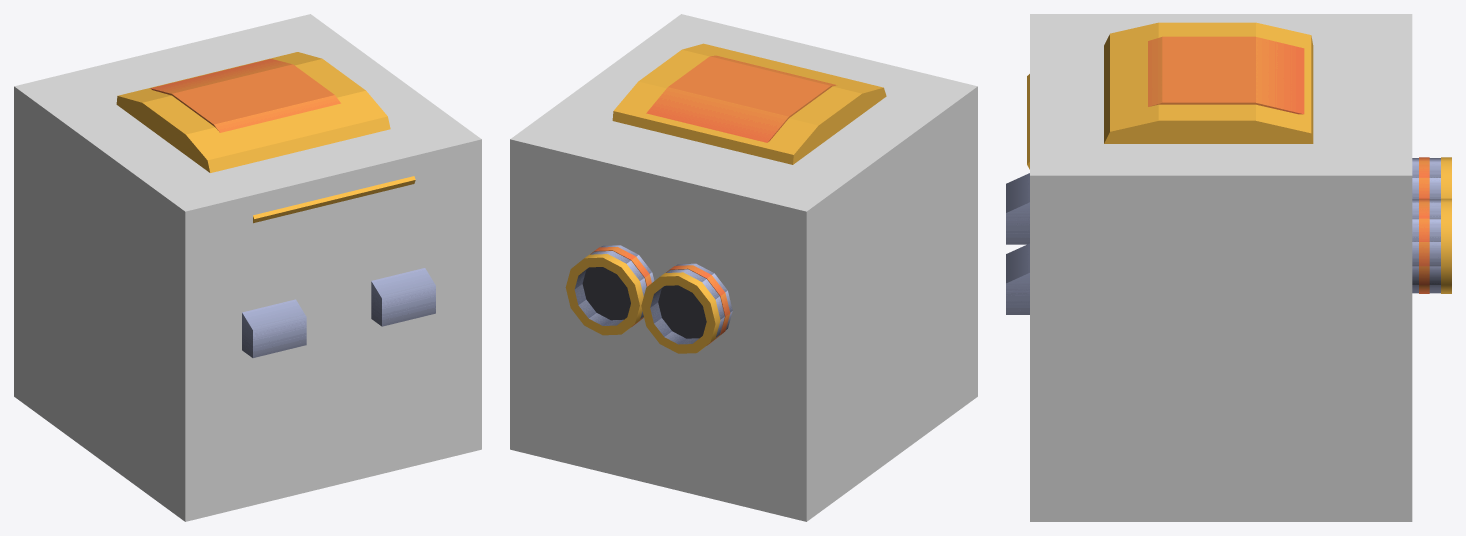
The model's file is gun_turret.glb.
3 renders of one model, left to right at view 1: azimuth 30°, elevation 25°; view 2: azimuth 150°, elevation 25°; view 3: azimuth 270°, elevation 25°, orthographic. The views are drawn at different scales.
Parts seen in each view (by area): view 1: COL_BOX_01, upgrade_l7_head, barrel; view 2: COL_BOX_01, upgrade_l7_head, upgrade_l6_head, barrel, upgrade_l8_head; view 3: COL_BOX_01, upgrade_l7_head, upgrade_l6_head, barrel, upgrade_l8_head.
Boxes of the visible parts, left/top/right/bottom form: COL_BOX_01: left=14, top=14, right=481, bottom=521; upgrade_l7_head: left=116, top=52, right=415, bottom=223; barrel: left=242, top=268, right=435, bottom=357; COL_BOX_01: left=510, top=14, right=977, bottom=521; upgrade_l7_head: left=612, top=43, right=886, bottom=164; upgrade_l6_head: left=565, top=245, right=732, bottom=353; barrel: left=582, top=267, right=706, bottom=338; upgrade_l8_head: left=590, top=247, right=730, bottom=345; COL_BOX_01: left=1030, top=14, right=1412, bottom=521; upgrade_l7_head: left=1027, top=22, right=1313, bottom=169; upgrade_l6_head: left=1412, top=157, right=1451, bottom=293; barrel: left=1006, top=173, right=1029, bottom=314; upgrade_l8_head: left=1419, top=157, right=1429, bottom=293.
Bounding box in the file's own units: 1.1 × 1.18 × 1.29.
1 material, 1 textured.
